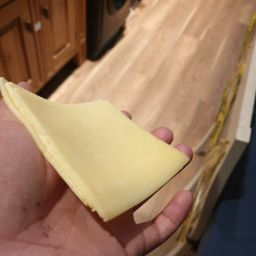Cheddar cheese: (1, 63, 198, 237), (3, 73, 114, 233)
